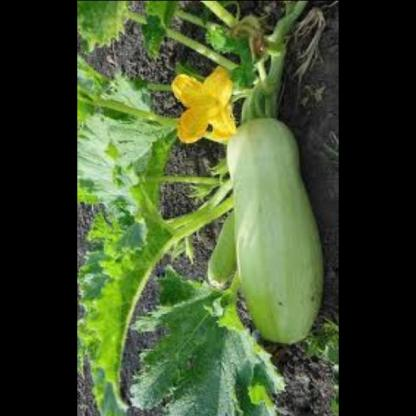vegetable marrow: (212, 99, 320, 347)
